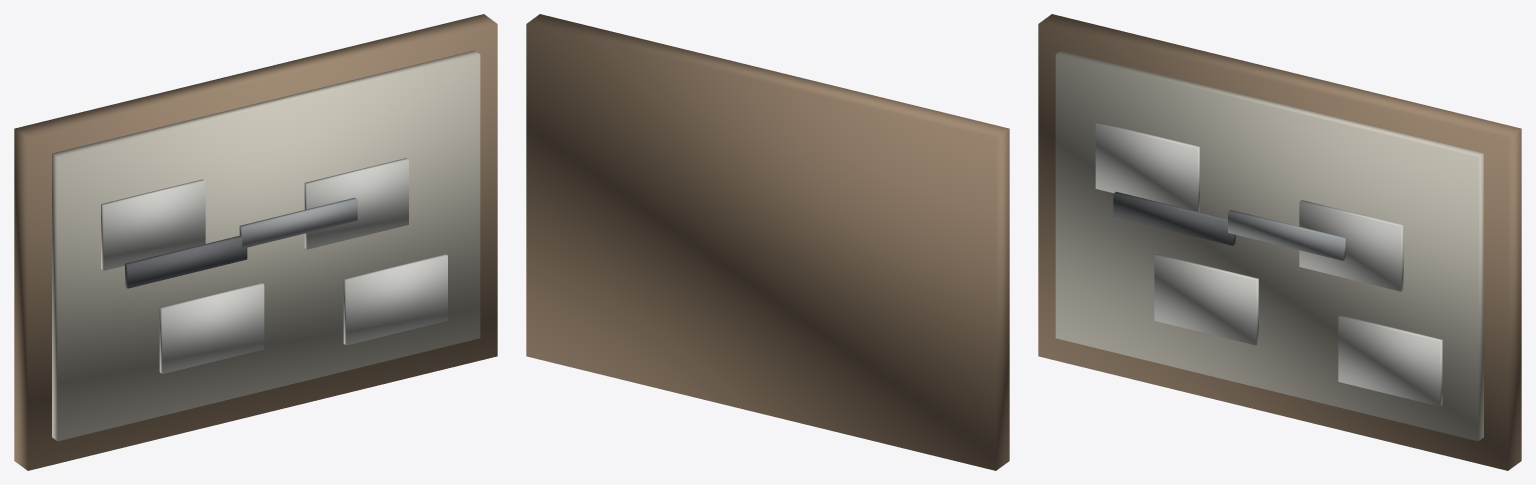
File: wall_directory__weathered.glb
3 views of the same model, side by side, from view 1: azimuth 30°, elevation 25°; view 2: azimuth 150°, elevation 25°; view 3: azimuth 330°, elevation 25° (orthographic).
Visible parts, largest first — view 1: world; view 2: world; view 3: world.
Part boxes in pixels (box(x1,y1,x2,y2)): world: box(14, 14, 497, 470); world: box(526, 14, 1009, 470); world: box(1038, 14, 1521, 470).
Size of the model in its own units: 1.2 by 0.8118 by 0.115.
